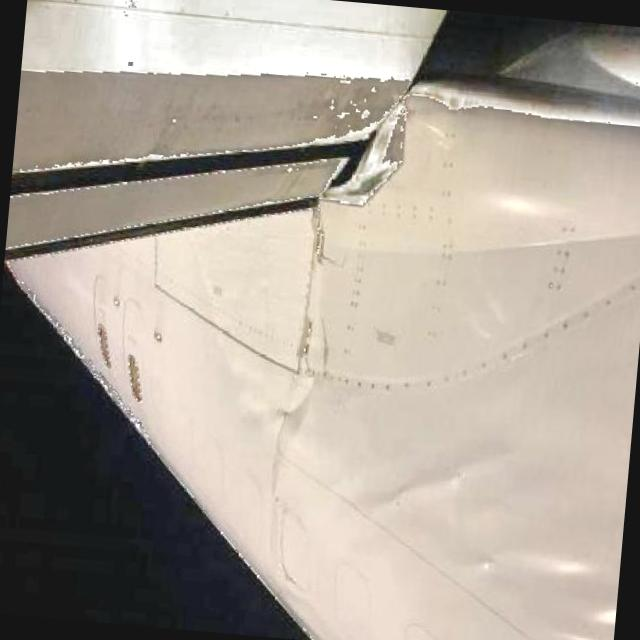dent: (234, 368, 316, 454), (377, 456, 482, 521), (518, 550, 604, 592), (290, 309, 336, 378), (541, 598, 614, 640), (466, 549, 504, 578)
